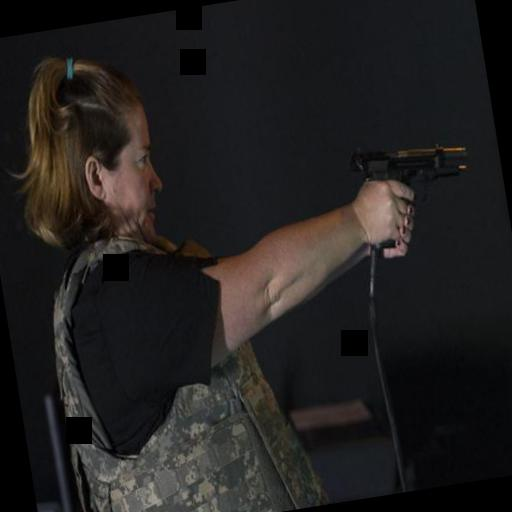Handgun: (340, 126, 474, 218)
